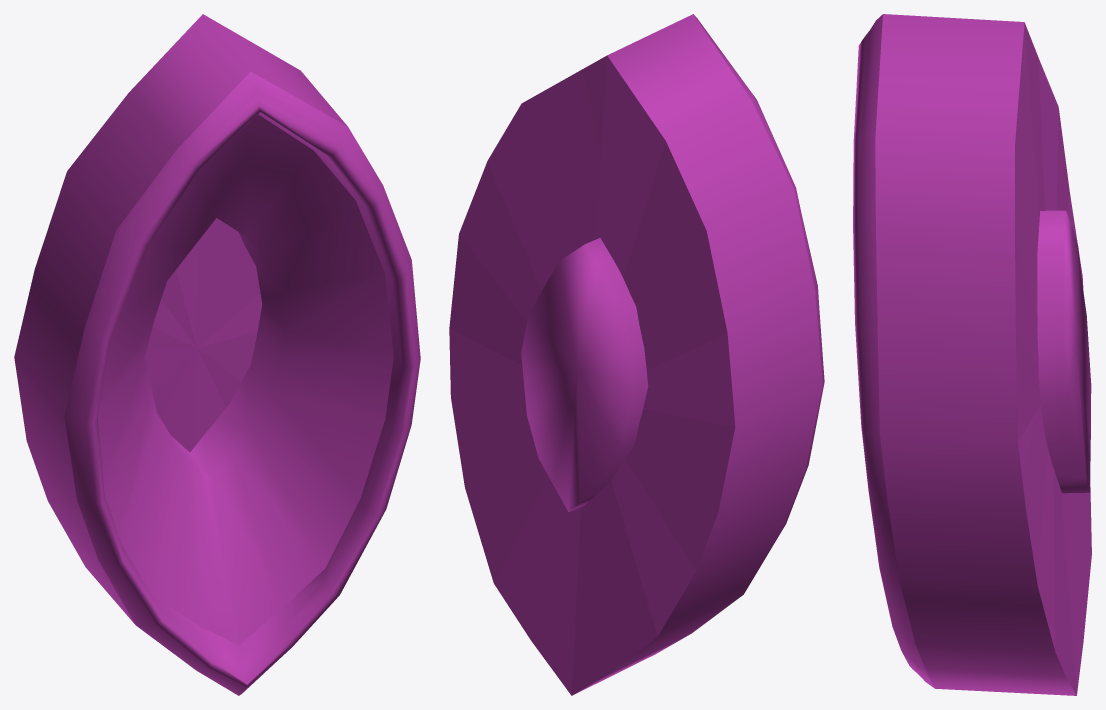
Rendered from TL1_8shapes_Marquise_Classic_Metal.001 2.glb.
3 renders of one model, left to right at view 1: azimuth 30°, elevation 25°; view 2: azimuth 150°, elevation 25°; view 3: azimuth 270°, elevation 25°, orthographic. The views are drawn at different scales.
Visible parts, largest first — view 1: TL1_8shapes_Marquise_Classic_Metal.001; view 2: TL1_8shapes_Marquise_Classic_Metal.001; view 3: TL1_8shapes_Marquise_Classic_Metal.001.
Part boxes in pixels (x1=…): TL1_8shapes_Marquise_Classic_Metal.001: x1=14, y1=14, x2=420, y2=695; TL1_8shapes_Marquise_Classic_Metal.001: x1=449, y1=14, x2=824, y2=695; TL1_8shapes_Marquise_Classic_Metal.001: x1=853, y1=14, x2=1091, y2=695.
Size of the model in its own units: 0.4553 by 0.813 by 0.2626.
